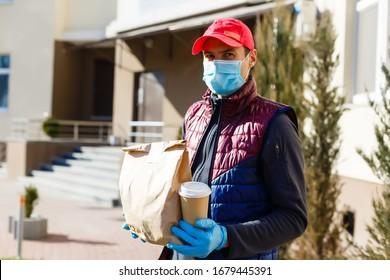gloves: (166, 218, 227, 259)
